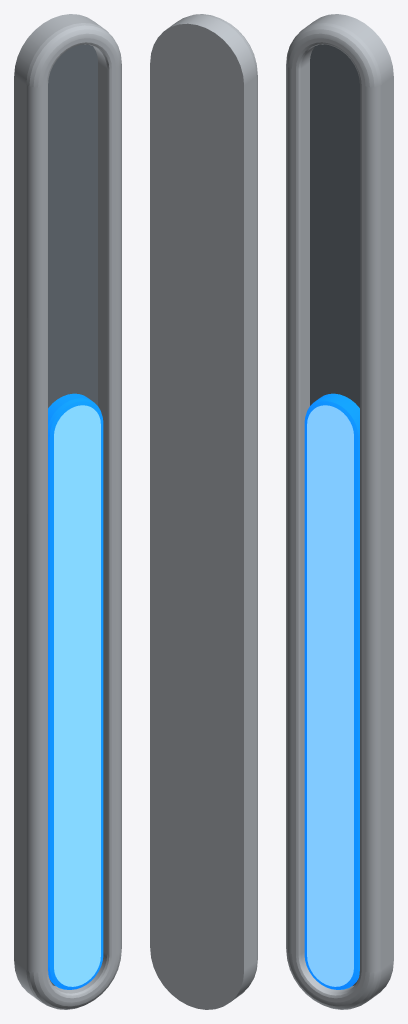
File: level-meter-505bf6.glb
3 views of the same model, side by side, from view 1: azimuth 30°, elevation 25°; view 2: azimuth 150°, elevation 25°; view 3: azimuth 330°, elevation 25° (orthographic).
Visible parts, largest first — view 1: track, fill-core, fill-rim, fill-tip; view 2: track; view 3: track, fill-core, fill-rim, fill-tip.
Boxes of the visible parts, <box> form: track: <box>14,14,121,1009</box>; fill-core: <box>54,405,100,986</box>; fill-rim: <box>48,424,103,989</box>; fill-tip: <box>48,393,103,436</box>; track: <box>150,14,257,1009</box>; track: <box>286,14,393,1009</box>; fill-core: <box>307,405,353,986</box>; fill-rim: <box>304,424,359,989</box>; fill-tip: <box>304,393,359,436</box>.
Size of the model in its own units: 0.012 by 0.12 by 0.004.
